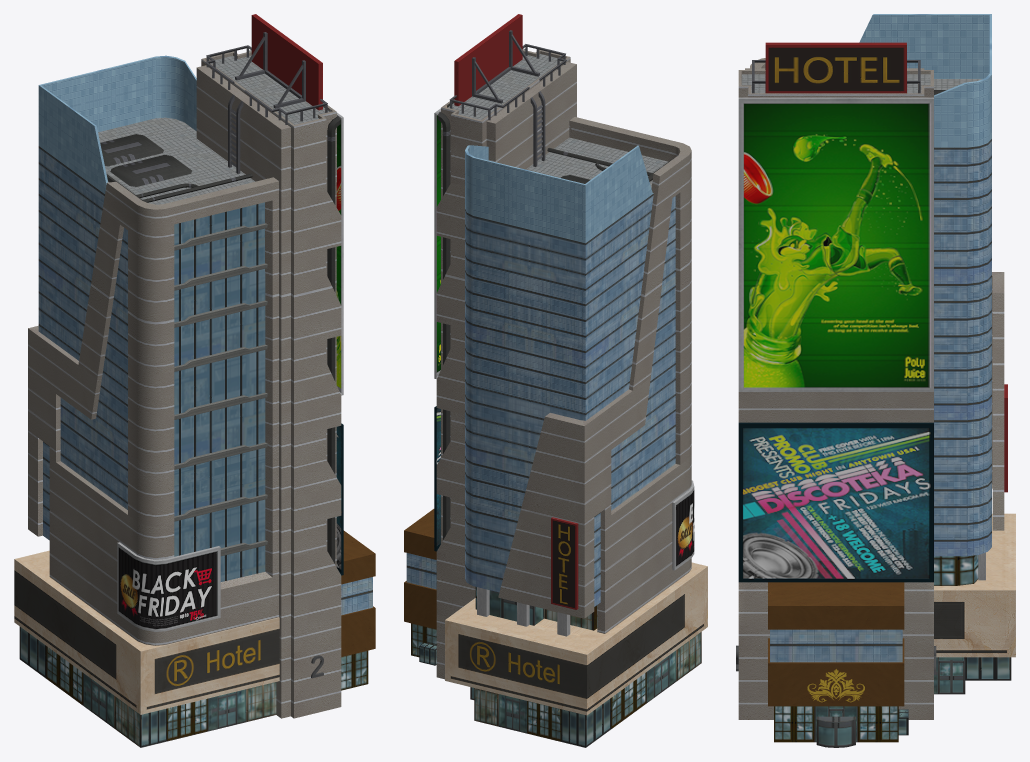
The model's file is store_010_H.FBX.
3 views of the same model, side by side, from view 1: azimuth 30°, elevation 25°; view 2: azimuth 150°, elevation 25°; view 3: azimuth 270°, elevation 25° (orthographic). The views are drawn at different scales.
Visible parts, largest first — view 1: store_010_H; view 2: store_010_H; view 3: store_010_H.
Boxes of the visible parts, x1,y1,x2,y2 form: store_010_H: [14, 14, 375, 747]; store_010_H: [404, 14, 707, 747]; store_010_H: [736, 14, 1015, 747].
Size of the model in its own units: 25.69 by 62.39 by 23.53.
